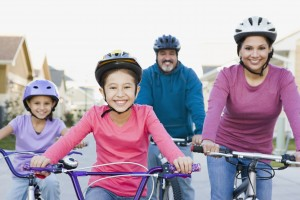helmet: (95, 51, 143, 112), (234, 17, 278, 71), (24, 80, 60, 120), (154, 35, 181, 72)
